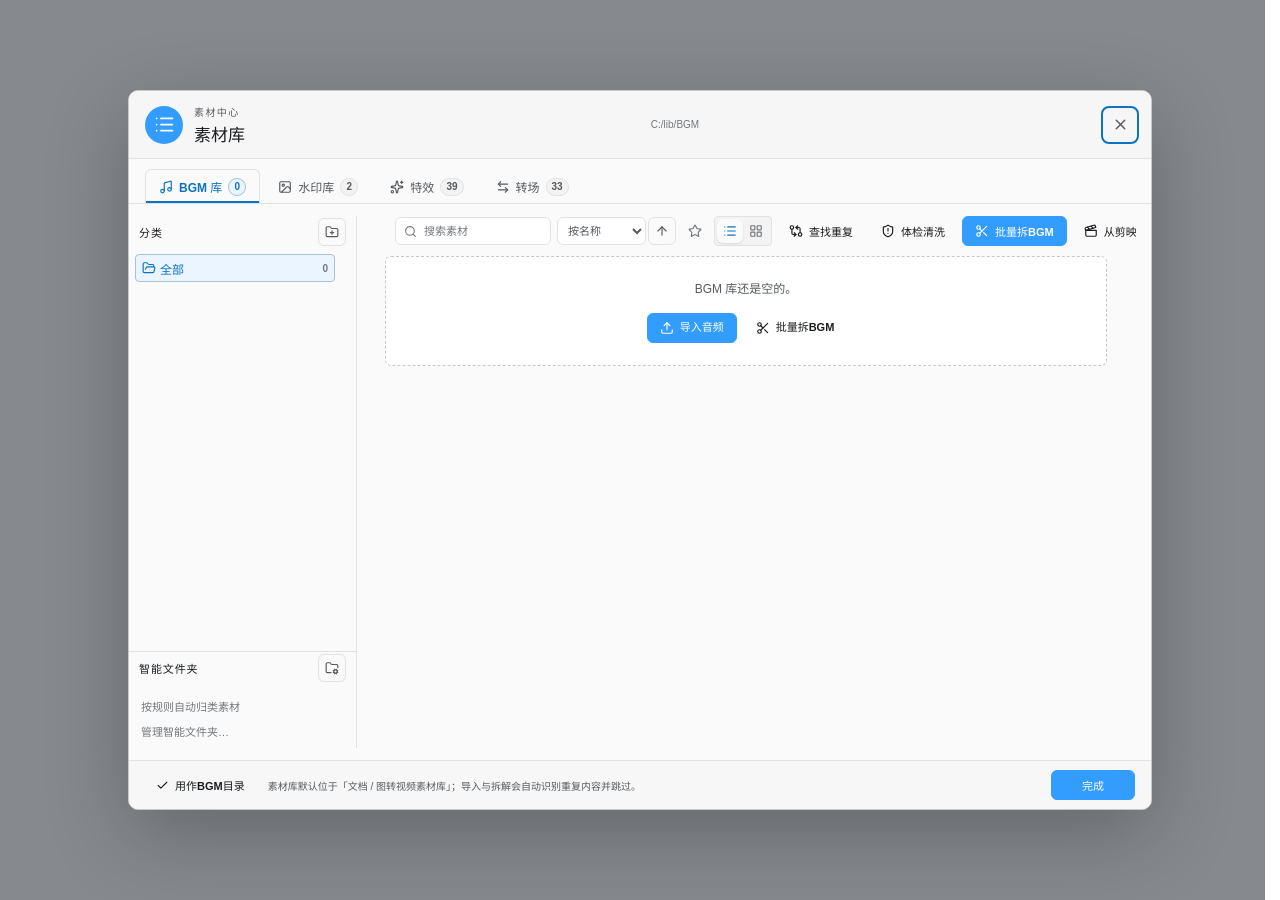
Eagle 风格素材管理 › 星标筛选：只看收藏素材
Click the tab "水印库 2" at point(318, 186), box [264,169,372,203]
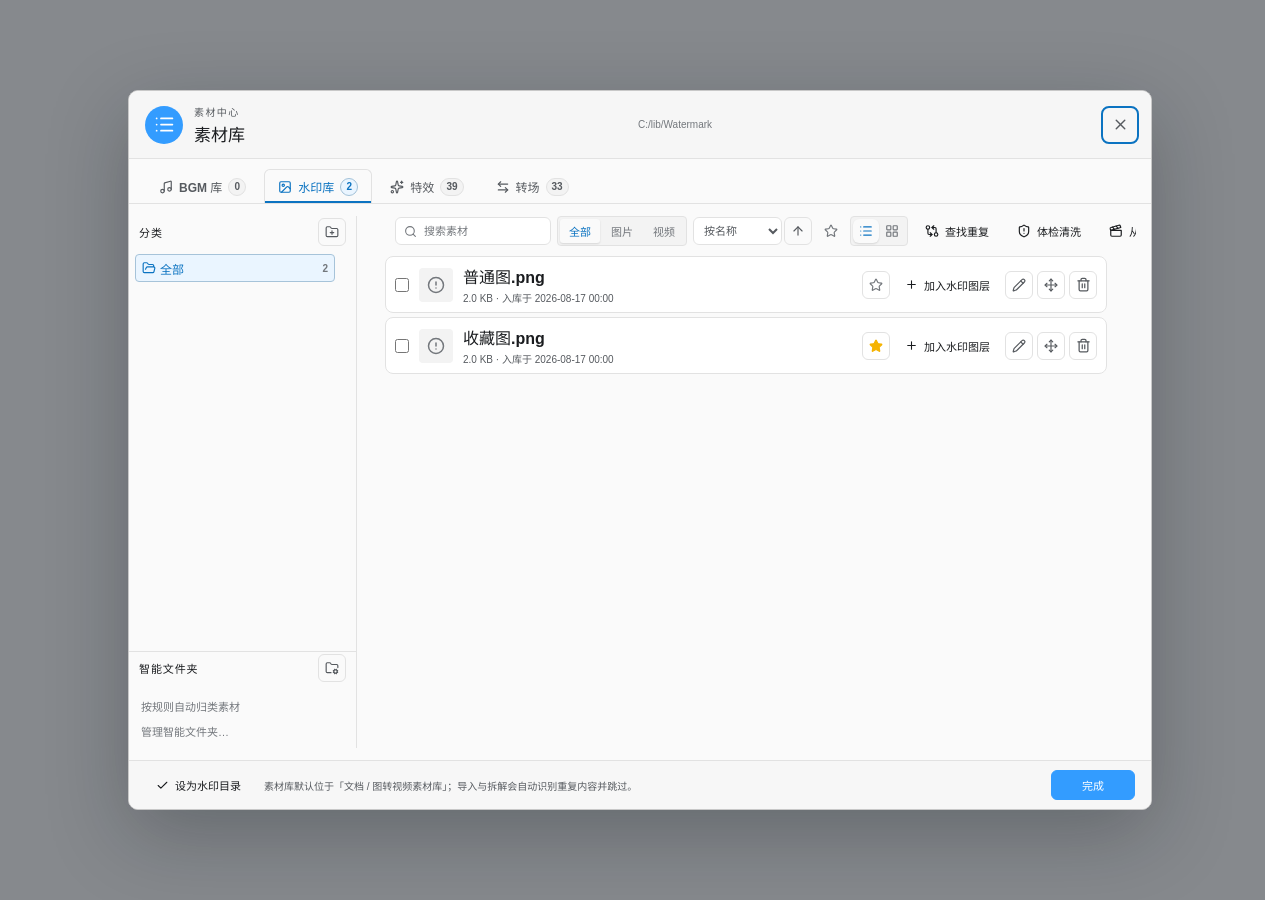
Now the number of list items with class "library-row" is 2, box [385,256,1107,313]; [385,317,1107,374]
Click the button named "只看收藏" at point(831, 231), box [818,218,844,244]
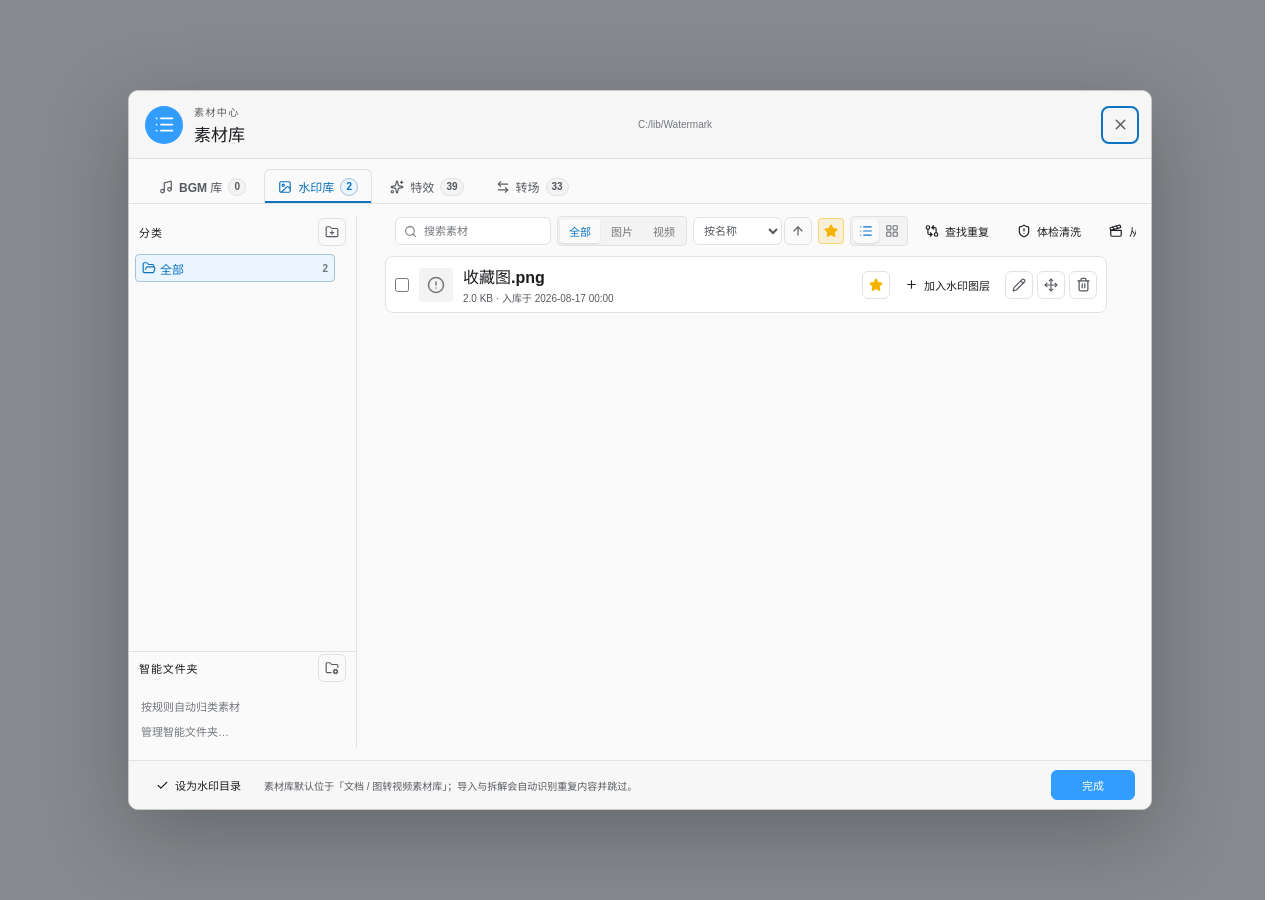
Now the list item with class "library-row" shows "收藏图.png", box [463,264,852,288]
Now the number of list items with class "library-row" is 1, box [385,256,1107,313]
